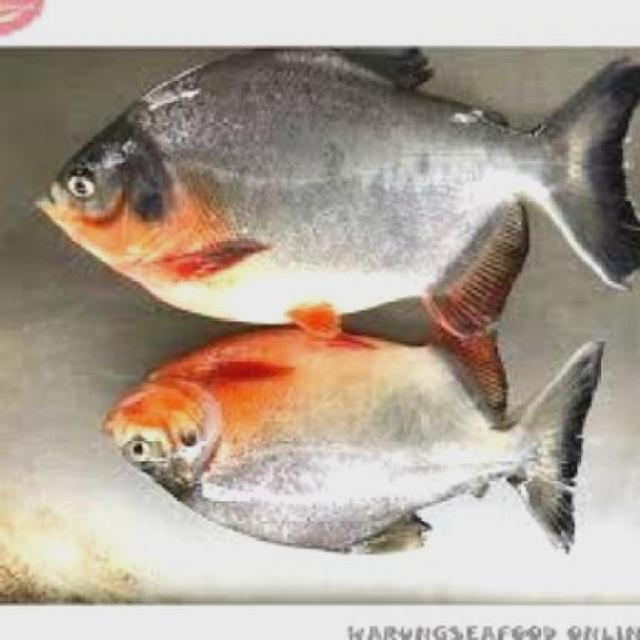ikan-pacu: (47, 46, 638, 328), (104, 338, 578, 548)
